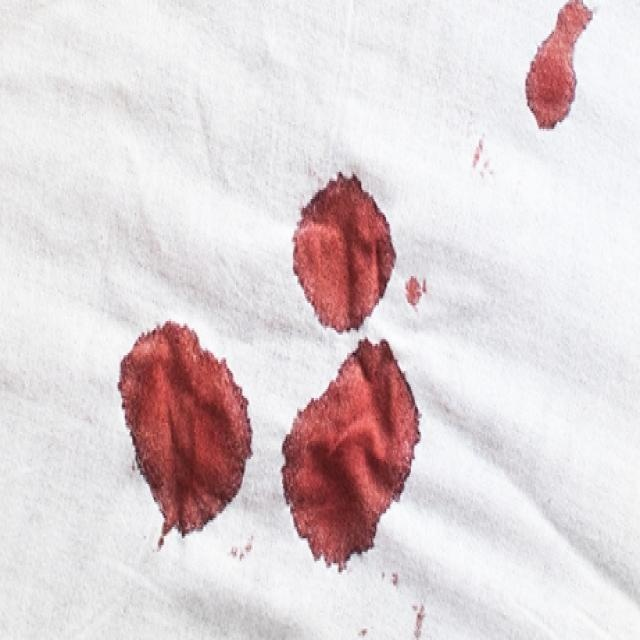blood: (289, 339, 420, 563), (123, 324, 246, 545), (295, 177, 393, 328), (521, 0, 598, 131)
